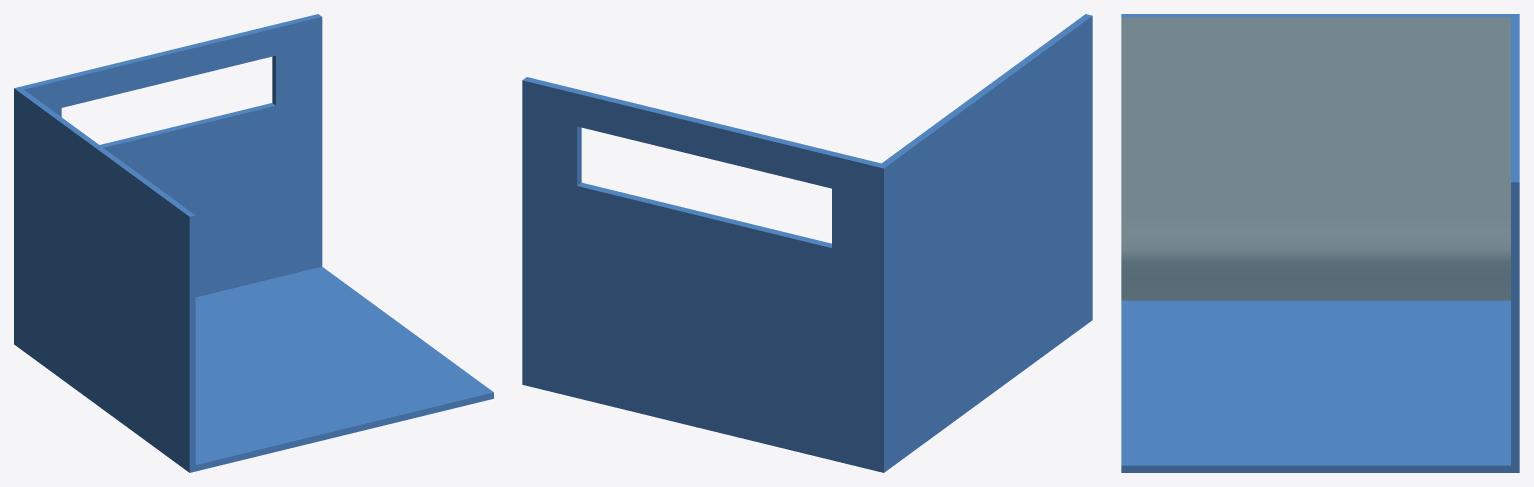
Rendered from Garage_Base.fbx.
The picture shows the model from 3 angles, left to right: view 1: azimuth 30°, elevation 25°; view 2: azimuth 150°, elevation 25°; view 3: azimuth 270°, elevation 25°; orthographic projection. The views are drawn at different scales.
Visible parts, largest first — view 1: Garage_Base; view 2: Garage_Base; view 3: Garage_Base.
Part boxes in pixels (<box>): Garage_Base: <box>14,14,493,472</box>; Garage_Base: <box>522,14,1092,472</box>; Garage_Base: <box>1121,14,1519,472</box>.
Bounding box in the file's own units: 500 × 402 × 500.
